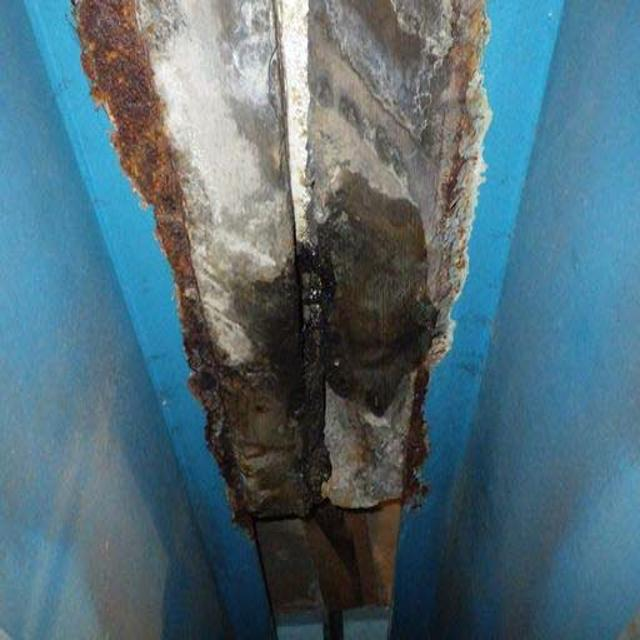corrosion: (70, 14, 461, 513)
